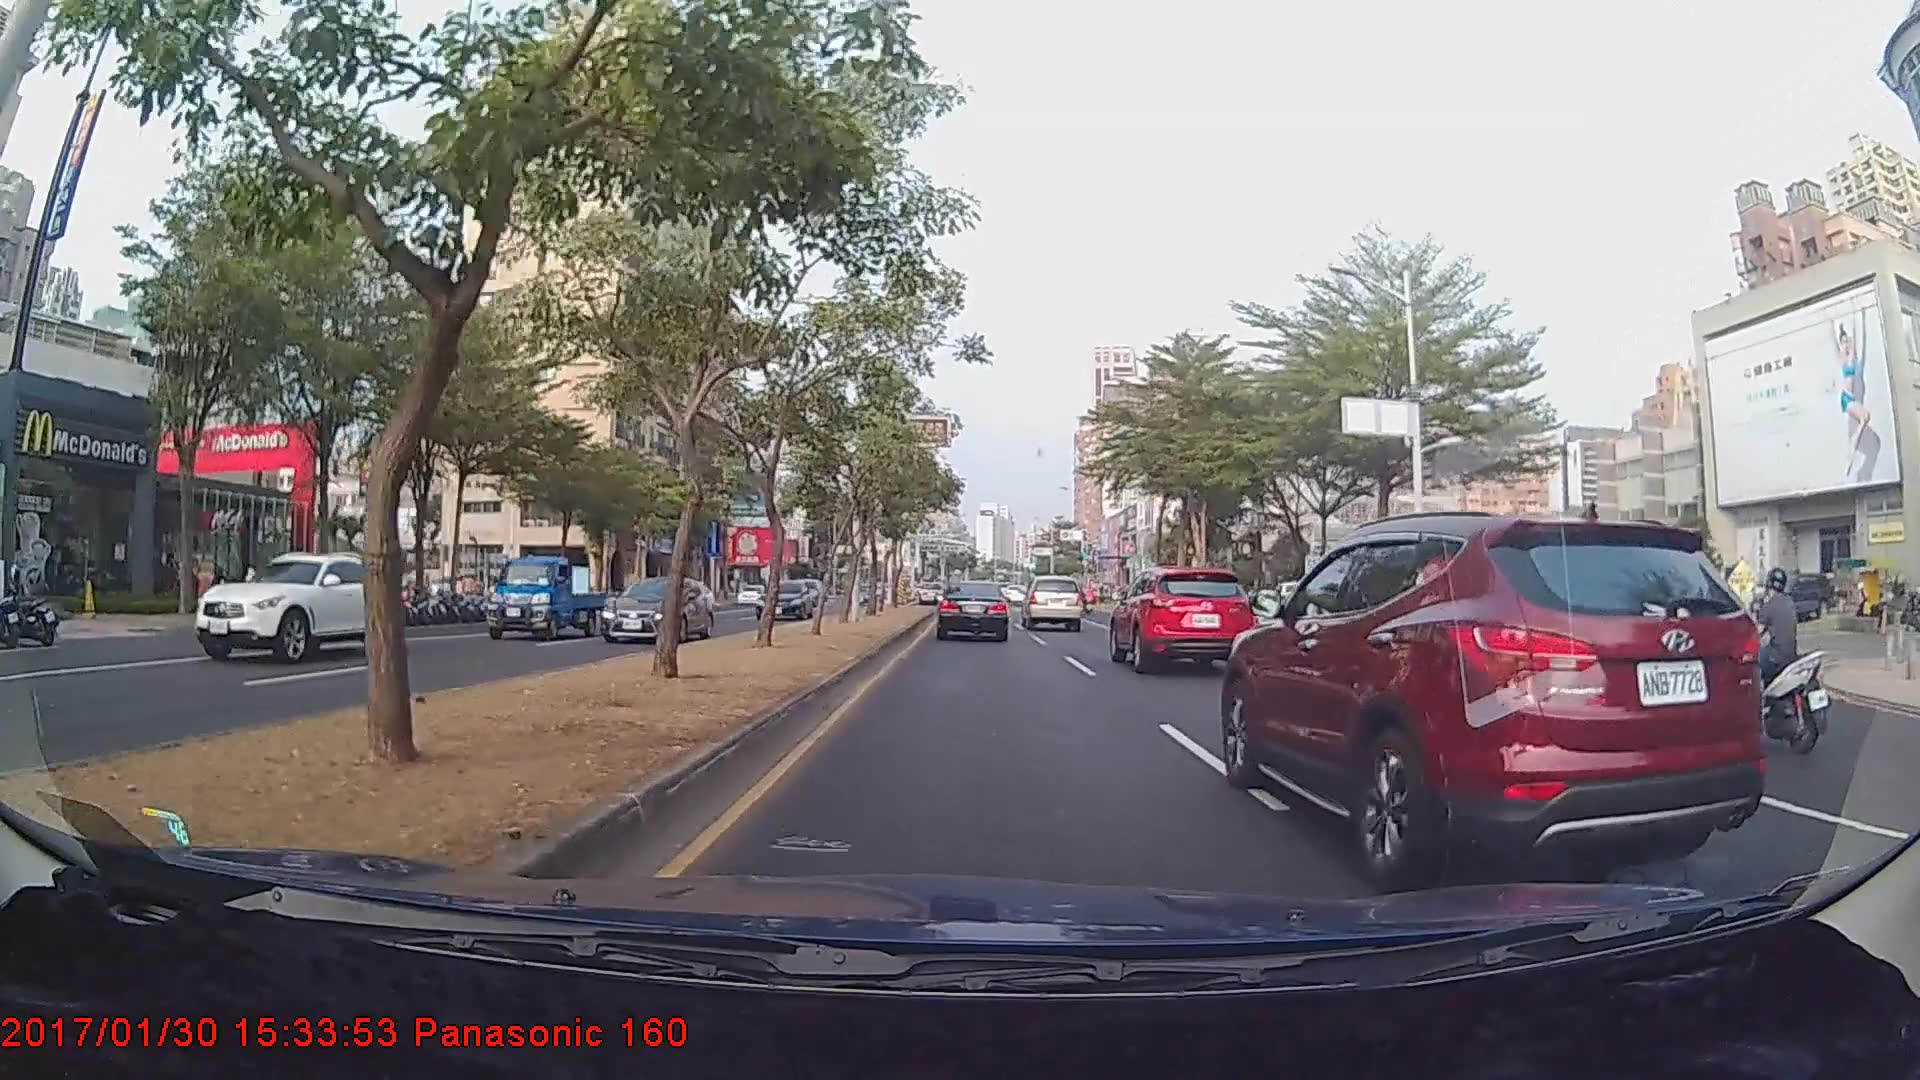rider: (1700, 566, 1827, 755)
vehicle: (1220, 523, 1767, 893), (189, 549, 399, 663), (1106, 565, 1259, 673), (483, 552, 607, 637), (601, 571, 713, 638), (936, 578, 1009, 642), (1022, 574, 1084, 631), (752, 577, 814, 618)
